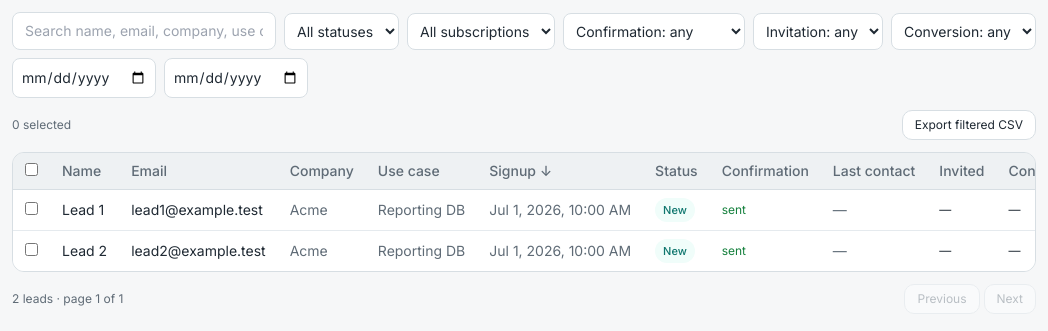
Scenario: lead table renders rows, selection and pagination info
Expected: the text "lead1@example.test" is shown, left=119, top=190, right=278, bottom=230
Expected: the text "lead2@example.test" is shown, left=119, top=230, right=278, bottom=271
Click the checkbox named "Select lead1@example.test" at (32, 208), box left=25, top=202, right=38, bottom=215
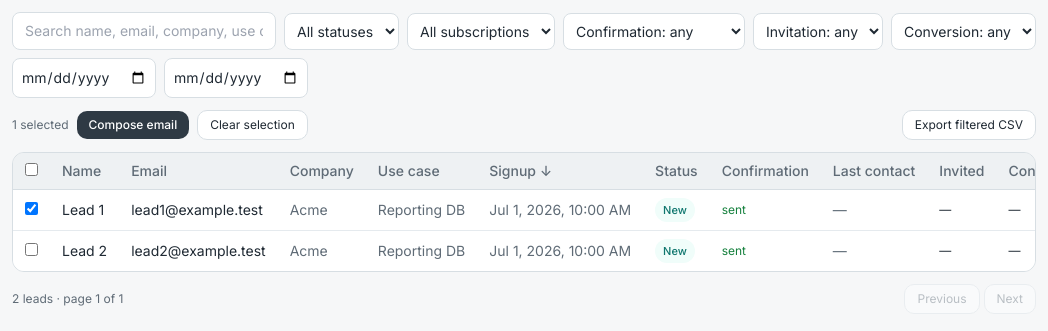
Expected: the text "1 selected" is shown, left=12, top=117, right=68, bottom=133
Expected: the button "Compose email" is shown, left=76, top=111, right=189, bottom=139
